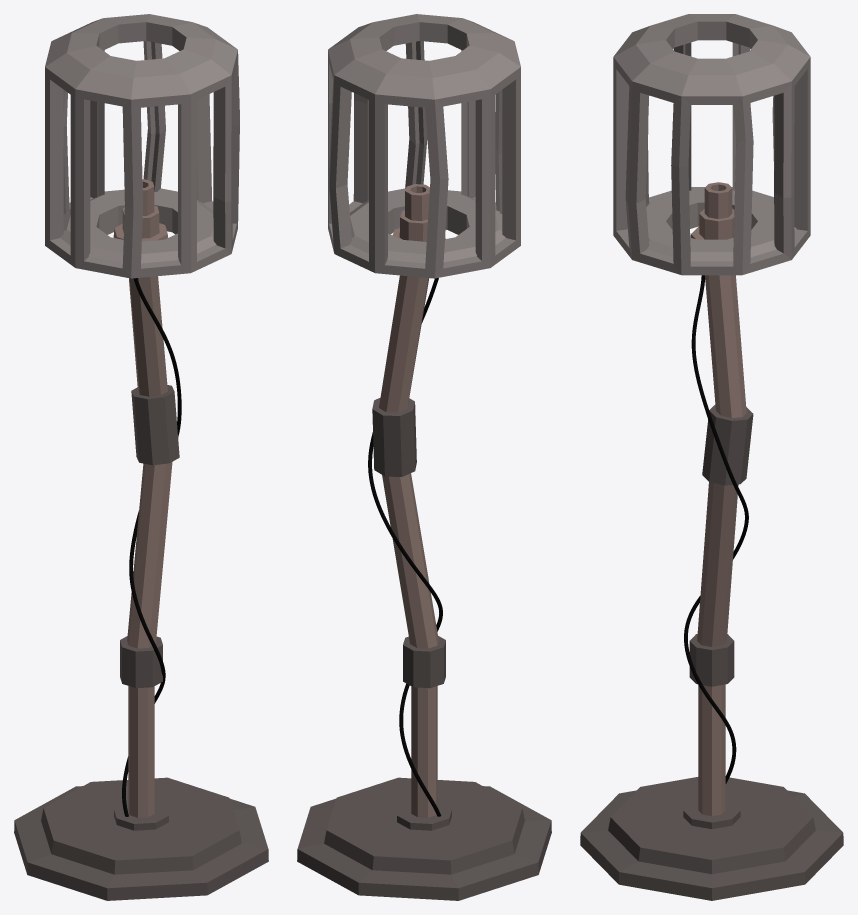
Rendered from staanlampmettextures.fbx.
3 views of the same model, side by side, from view 1: azimuth 30°, elevation 25°; view 2: azimuth 150°, elevation 25°; view 3: azimuth 270°, elevation 25° (orthographic).
Parts seen in each view (by area): view 1: Cylinder.003, Cylinder.005, Cylinder.004, Cylinder.012, Cube, Cylinder.013; view 2: Cylinder.003, Cylinder.005, Cylinder.004, Cylinder.012, Cylinder.013, Cube; view 3: Cylinder.003, Cylinder.005, Cylinder.004, Cylinder.012, Cube, Cylinder.013.
Part boxes in pixels (x1,y1,x2,y2): Cylinder.003: [45, 14, 239, 278]; Cylinder.005: [14, 777, 268, 900]; Cylinder.004: [113, 179, 172, 817]; Cylinder.012: [131, 385, 179, 465]; Cube: [122, 278, 181, 816]; Cylinder.013: [120, 636, 162, 688]; Cylinder.003: [328, 14, 520, 278]; Cylinder.005: [297, 777, 551, 900]; Cylinder.004: [379, 184, 445, 817]; Cylinder.012: [372, 398, 416, 476]; Cylinder.013: [403, 636, 445, 688]; Cube: [368, 278, 442, 816]; Cylinder.003: [613, 14, 810, 275]; Cylinder.005: [580, 777, 843, 900]; Cylinder.004: [690, 182, 746, 815]; Cylinder.012: [702, 405, 753, 485]; Cube: [684, 275, 748, 783]; Cylinder.013: [689, 634, 734, 686].
Size of the model in its own units: 645 by 2292 by 645.
